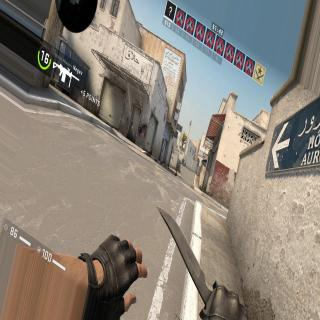CT-Body: (182, 158, 184, 166)
CT-Head: (183, 158, 184, 160)
